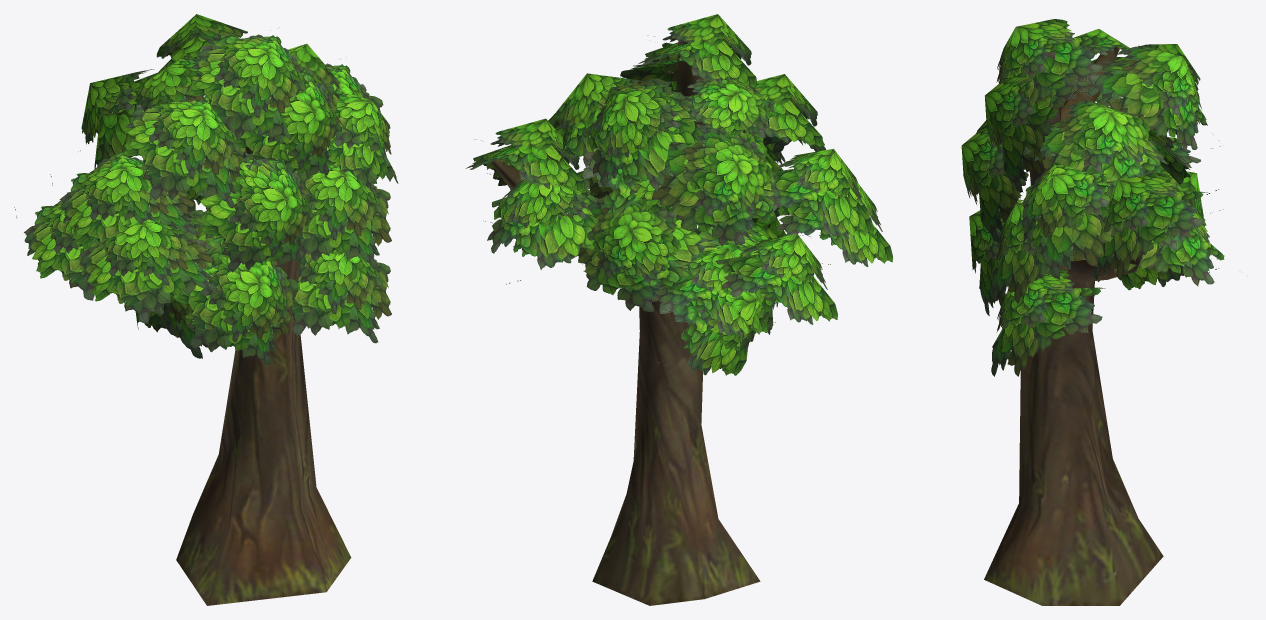
Rendered from PK_model_tree.FBX.
3 views of the same model, side by side, from view 1: azimuth 30°, elevation 25°; view 2: azimuth 150°, elevation 25°; view 3: azimuth 270°, elevation 25° (orthographic).
Parts seen in each view (by area): view 1: PK_model_tree; view 2: PK_model_tree; view 3: PK_model_tree.
Part boxes in pixels (x1,y1,x2,y2): PK_model_tree: (14,14,398,605); PK_model_tree: (465,14,892,605); PK_model_tree: (961,19,1224,605).
Bounding box in the file's own units: 435 × 576 × 294.
